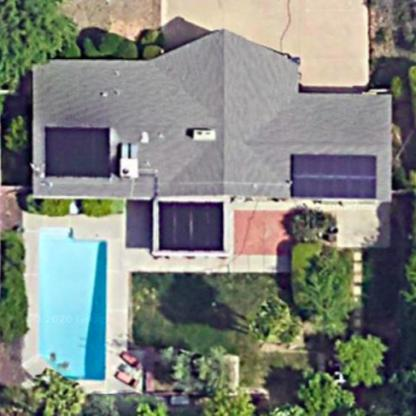solar_panel: (284, 147, 384, 204), (35, 118, 116, 183), (152, 193, 228, 256)
swimming_pool: (24, 218, 119, 385)
